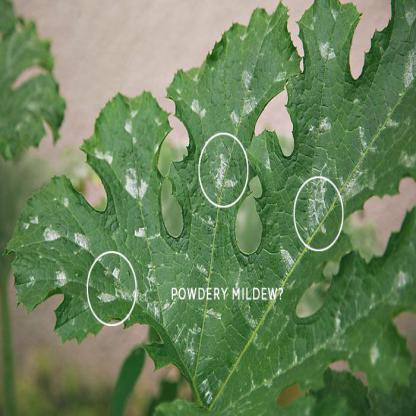squash powdery mildew leaf: (17, 1, 415, 396)
